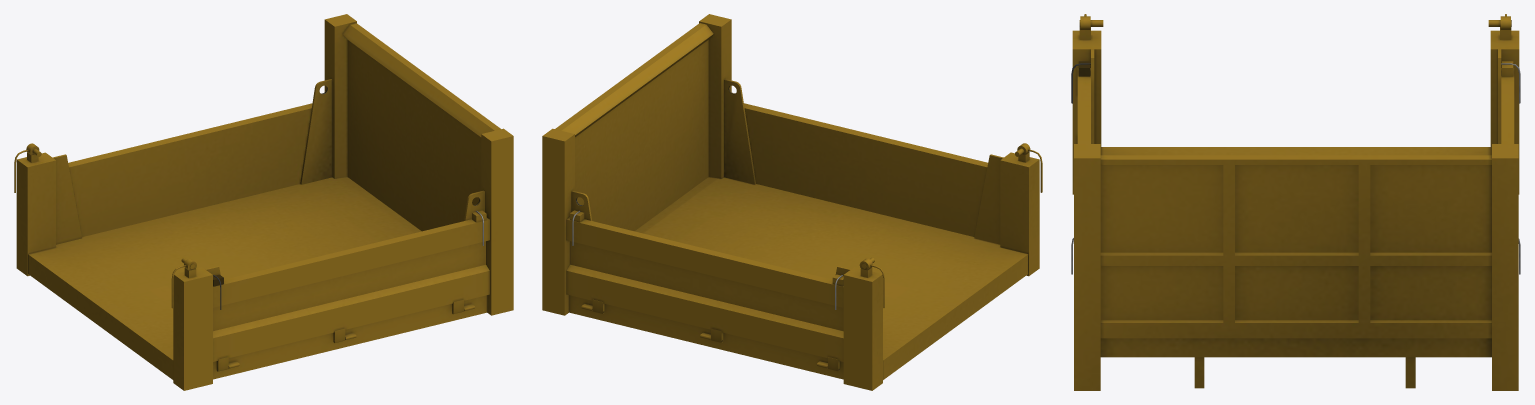
File: c30r-vessel1.dae
3 views of the same model, side by side, from view 1: azimuth 30°, elevation 25°; view 2: azimuth 150°, elevation 25°; view 3: azimuth 270°, elevation 25° (orthographic). The views are drawn at different scales.
Parts seen in each view (by area): view 1: vessel1; view 2: vessel1; view 3: vessel1.
Boxes of the visible parts, <box> form: vessel1: <box>14,14,513,390</box>; vessel1: <box>542,14,1042,390</box>; vessel1: <box>1071,14,1520,390</box>.
Size of the model in its own units: 1.78 by 1.54 by 0.9723.
1 material, 1 textured.
